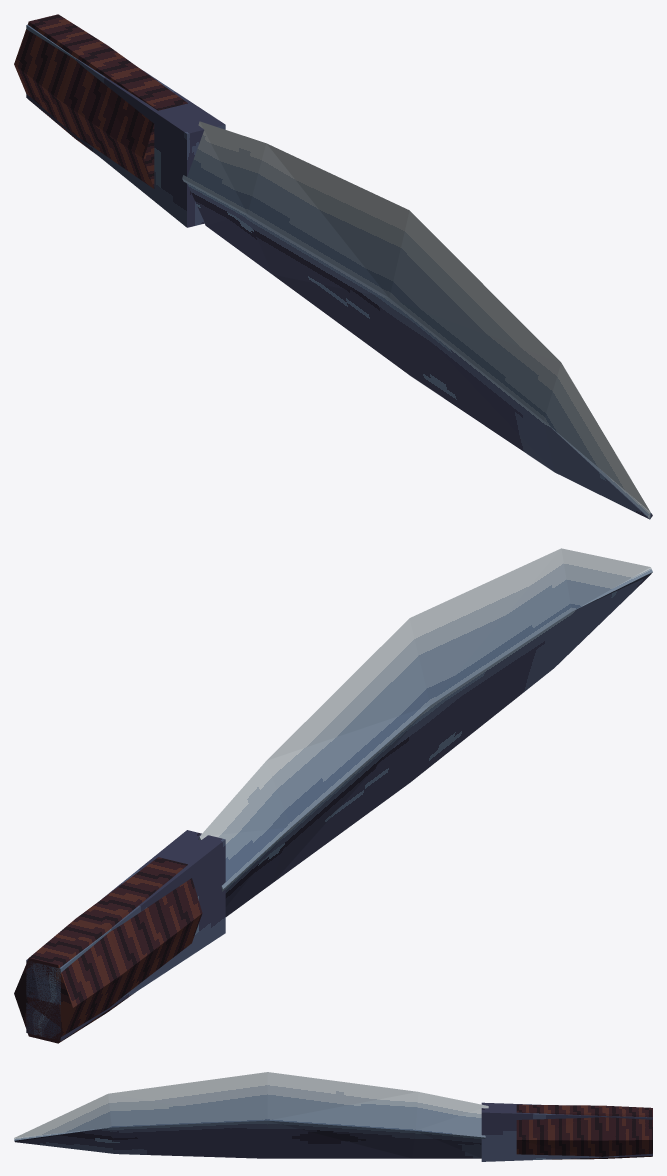
The model's file is messer-e-hand-s12.glb.
3 views of the same model, one above another, from view 1: azimuth 30°, elevation 25°; view 2: azimuth 150°, elevation 25°; view 3: azimuth 270°, elevation 25° (orthographic). The views are drawn at different scales.
Visible parts, largest first — view 1: knife; view 2: knife; view 3: knife.
Boxes of the visible parts, x1,y1,x2,y2 form: knife: (14, 14, 652, 519); knife: (14, 548, 652, 1043); knife: (14, 1072, 652, 1161).
Size of the model in its own units: 0.018 by 0.0443 by 0.2954.
Materials: 1 (1 with a texture image).
